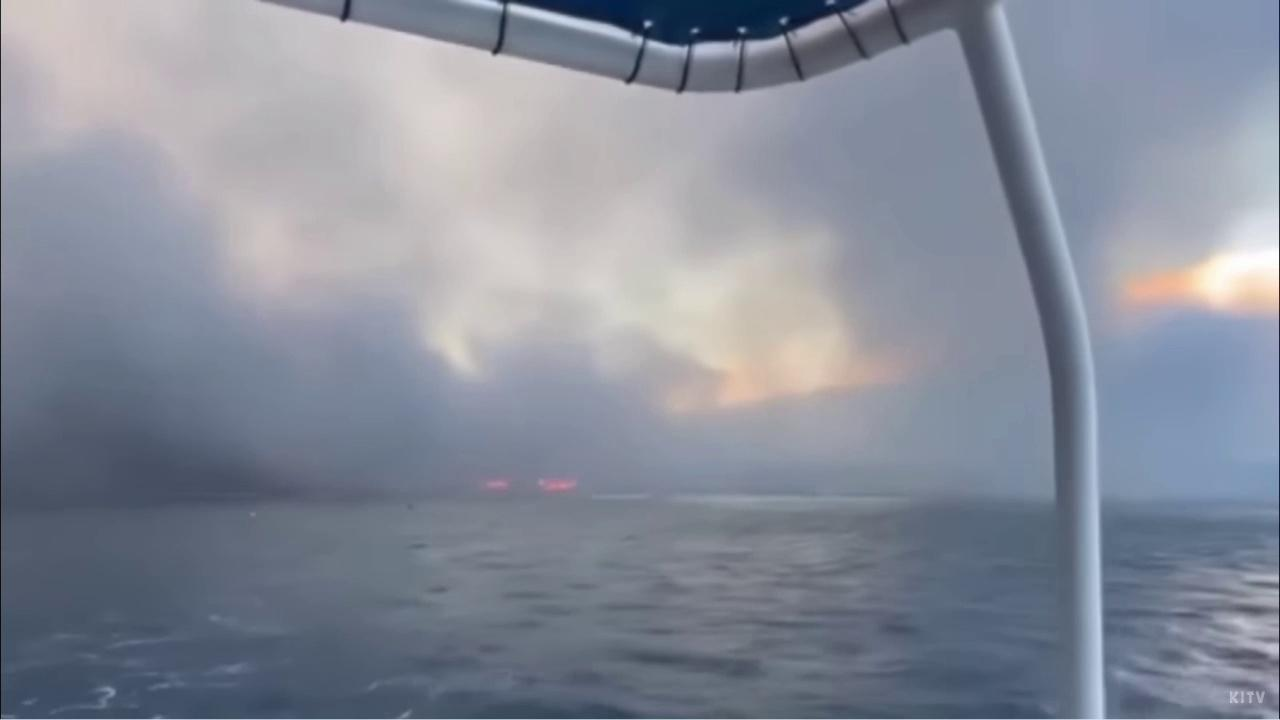fire: (536, 475, 577, 493), (482, 478, 511, 493)
smoke: (0, 0, 1280, 496)
